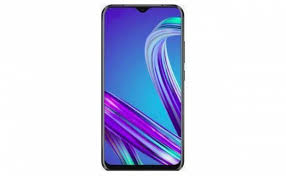asus: (99, 2, 187, 171)
